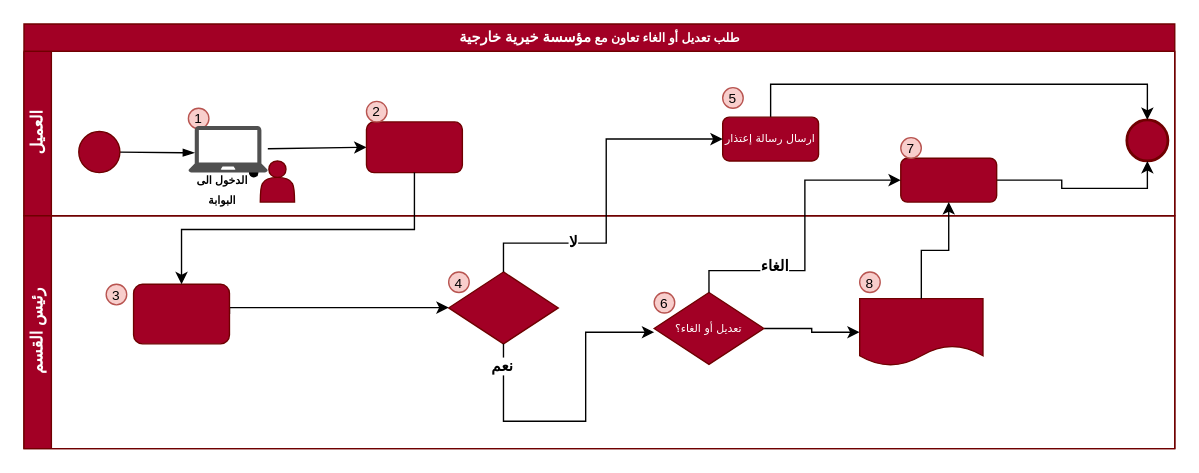
Image size: 1199x473. Some labels were removed from this diagram. Here are the shapes that lost their labels. From the top down, the centre of each, then its label:
At [98,151]: "بداية".
At [413,147]: "تعبئة وتقديم نموذج الطلب".
At [1147,140]: "اغلاق".
At [948,179]: "اشعار العميل بالموافقة (مرفق تصريح في حالة التعديل)".
At [180,313]: "مراجعة الطلب".
At [502,307]: "موافقة؟".
At [920,331]: "اصدار تصريح بتاريخ جديد".
